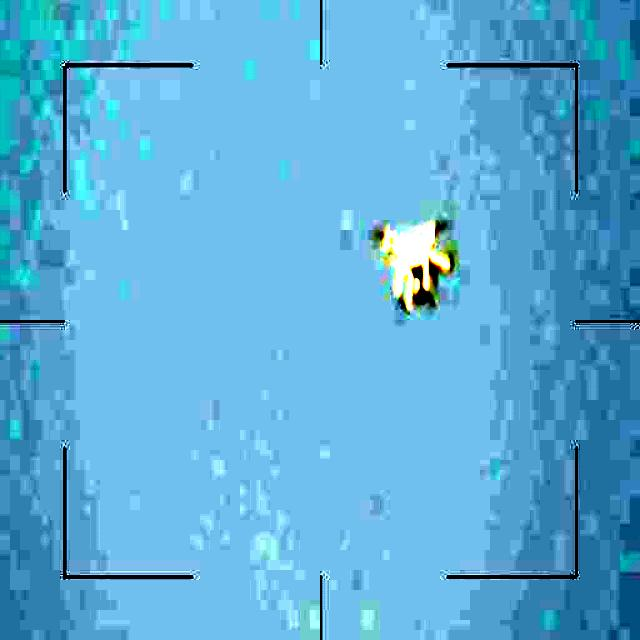bird: (376, 219, 458, 315)
